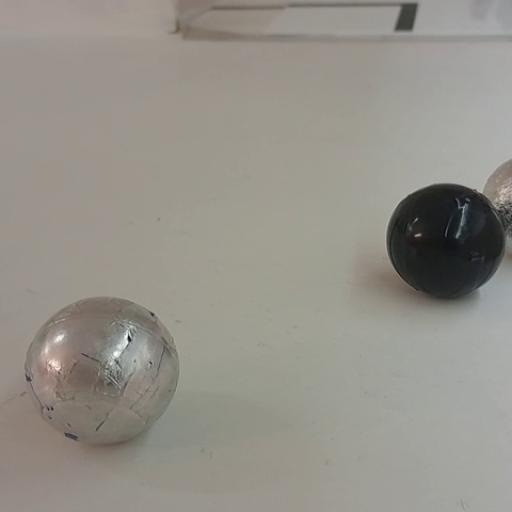alive: (23, 296, 179, 445), (483, 156, 511, 239)
dead: (385, 184, 503, 298)
